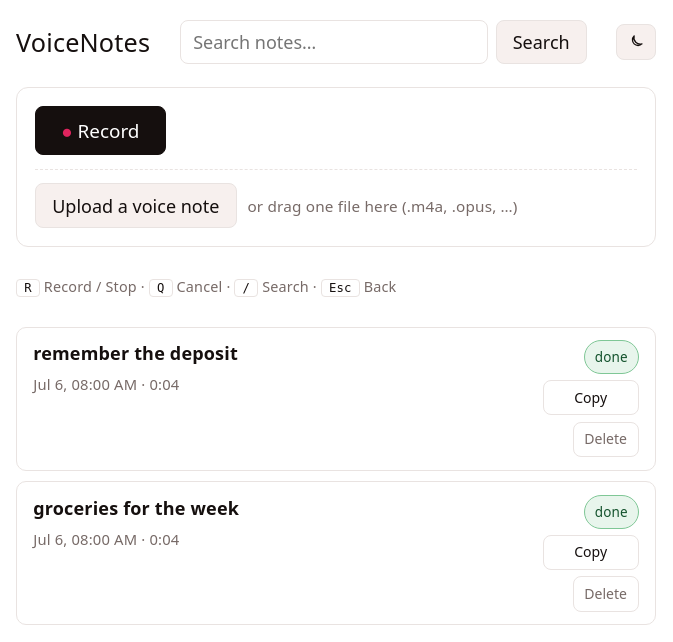
it: the clear button empties the search and restores the archive
The image size is (673, 642).
Expected: the text "groceries for the week" is shown, 33,496 -> 239,520
Type "deposit" into the search field at coordinates (334, 42), box 180,20 -> 488,64
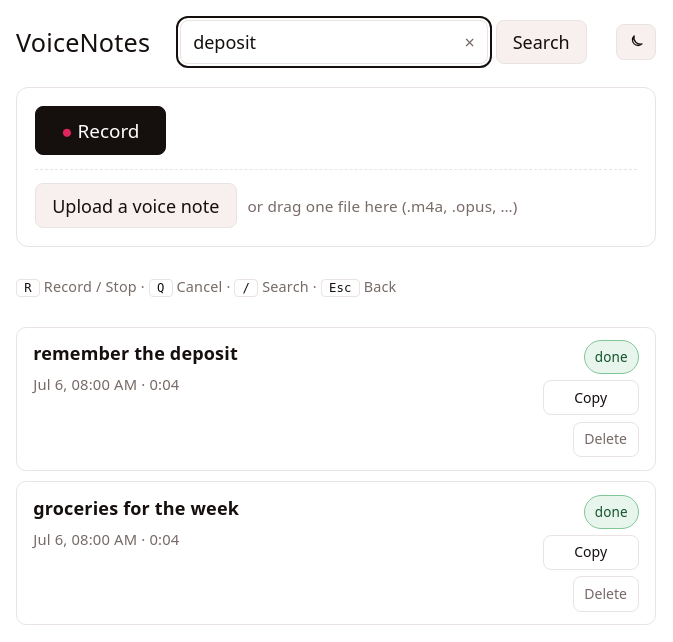
Click the button "Search" at coordinates (541, 42), box 496,20 -> 587,64
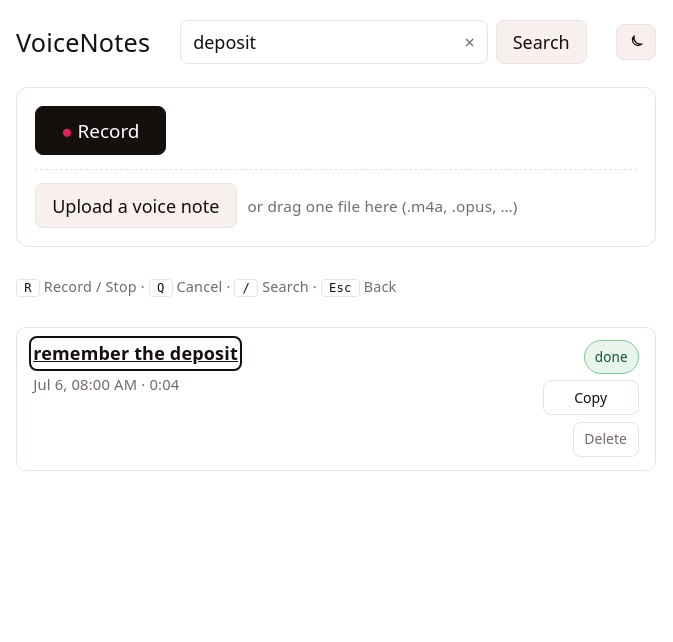
Expected: the button "groceries for the week" is gone
Click the button named "clear search" at coordinates (470, 42), box 456,31 -> 483,53
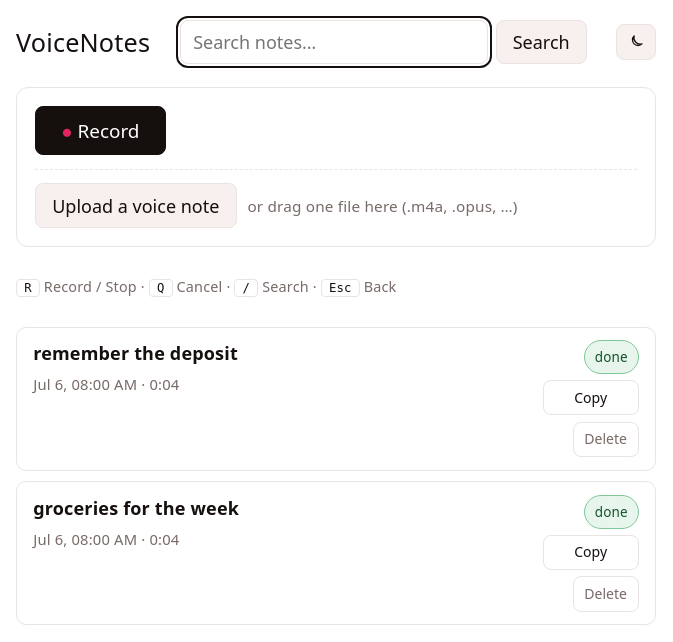
Expected: the search field is empty, 180,20 -> 488,64
Expected: the text "groceries for the week" is shown, 33,496 -> 239,520
